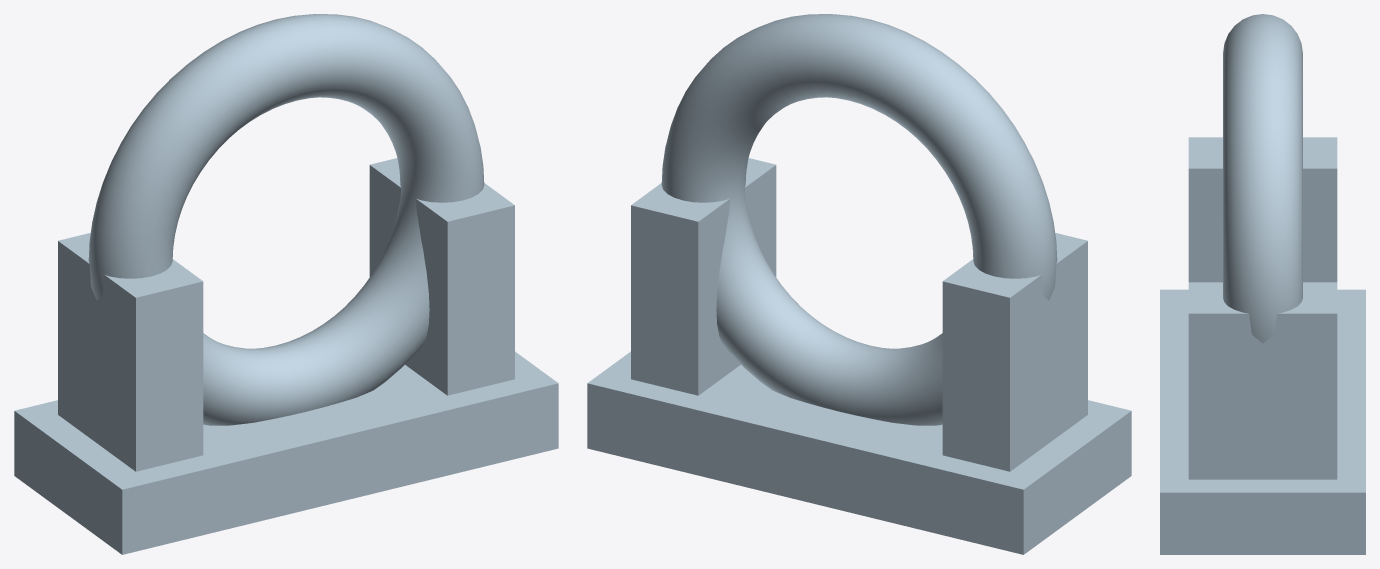
Rendered from bracket.glb.
3 views of the same model, side by side, from view 1: azimuth 30°, elevation 25°; view 2: azimuth 150°, elevation 25°; view 3: azimuth 270°, elevation 25° (orthographic). The views are drawn at different scales.
Visible parts, largest first — view 1: Bearing bracket; view 2: Bearing bracket; view 3: Bearing bracket.
Part boxes in pixels (left/top/right/bottom): Bearing bracket: left=14, top=14, right=558, bottom=554; Bearing bracket: left=587, top=14, right=1131, bottom=554; Bearing bracket: left=1160, top=14, right=1365, bottom=554.
Size of the model in its own units: 4.2 by 4.05 by 1.8.
